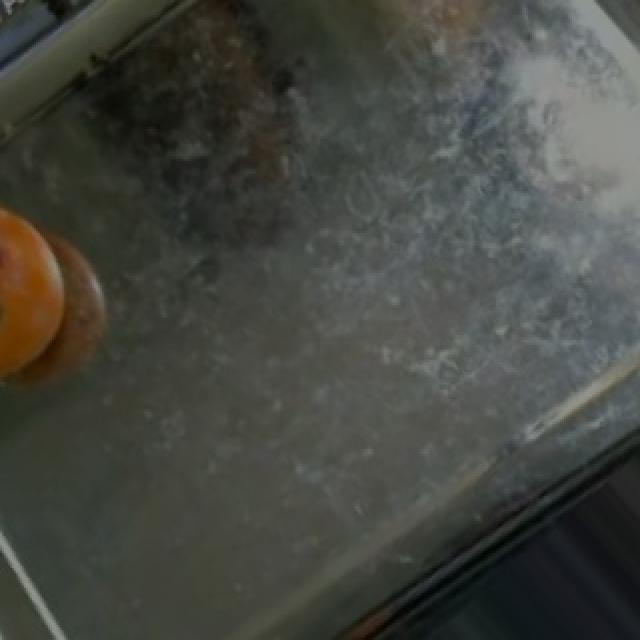Fruit: (0, 181, 94, 407)
